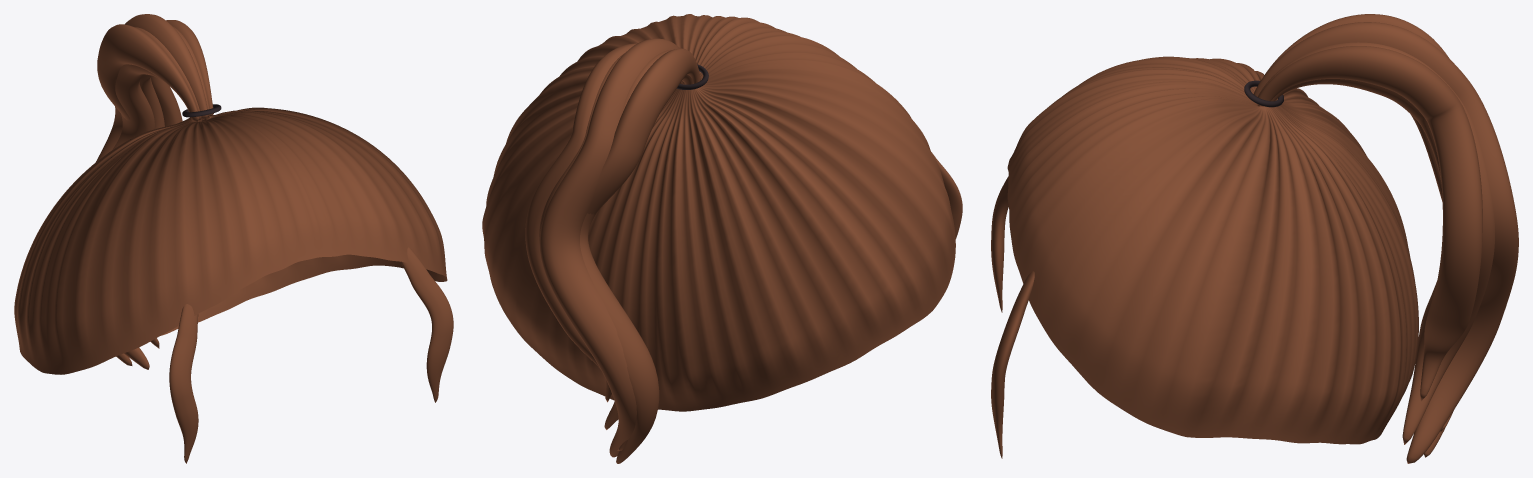
The model's file is Feminine-ponytail-hair.glb.
The picture shows the model from 3 angles, left to right: view 1: azimuth 30°, elevation 25°; view 2: azimuth 150°, elevation 25°; view 3: azimuth 270°, elevation 25°; orthographic projection. The views are drawn at different scales.
Parts seen in each view (by area): view 1: Hair / swept roots219, Hair / rounded tail219 0, Hair / adjustable front216 -1, Hair / adjustable front216 1, Hair / rounded tail219 2, Hair / rounded tail219 1, Hair / rounded tail219 4, Hair / rounded tail219 3; view 2: Hair / swept roots219, Hair / rounded tail219 2, Hair / rounded tail219 0, Hair / rounded tail219 1, Hair / rounded tail219 4, Hair / rounded tail219 3, Hair / adjustable front216 -1; view 3: Hair / swept roots219, Hair / rounded tail219 4, Hair / rounded tail219 2, Hair / rounded tail219 3, Hair / adjustable front216 1, Hair / adjustable front216 -1, Hair / rounded tail219 0, Hair / rounded tail219 1.
Boxes of the visible parts, x1,y1,x2,y2 form: Hair / swept roots219: (14, 107, 447, 374); Hair / rounded tail219 0: (97, 24, 199, 121); Hair / adjustable front216 -1: (169, 304, 198, 463); Hair / adjustable front216 1: (400, 247, 453, 402); Hair / rounded tail219 2: (96, 14, 208, 369); Hair / rounded tail219 1: (112, 27, 201, 365); Hair / rounded tail219 4: (150, 20, 213, 126); Hair / rounded tail219 3: (139, 27, 210, 348); Hair / swept roots219: (482, 14, 955, 411); Hair / rounded tail219 2: (539, 38, 684, 457); Hair / rounded tail219 0: (587, 48, 700, 450); Hair / rounded tail219 1: (580, 50, 693, 463); Hair / rounded tail219 4: (525, 43, 636, 402); Hair / rounded tail219 3: (539, 53, 681, 429); Hair / adjustable front216 -1: (931, 152, 962, 238); Hair / swept roots219: (1007, 56, 1418, 444); Hair / rounded tail219 4: (1258, 46, 1482, 401); Hair / rounded tail219 2: (1253, 22, 1518, 463); Hair / rounded tail219 3: (1258, 42, 1494, 444); Hair / adjustable front216 1: (991, 271, 1034, 458); Hair / adjustable front216 -1: (991, 176, 1008, 312); Hair / rounded tail219 0: (1265, 14, 1453, 431); Hair / rounded tail219 1: (1410, 114, 1445, 457).
Bounding box in the file's own units: 0.9668 × 0.8694 × 0.9502.
